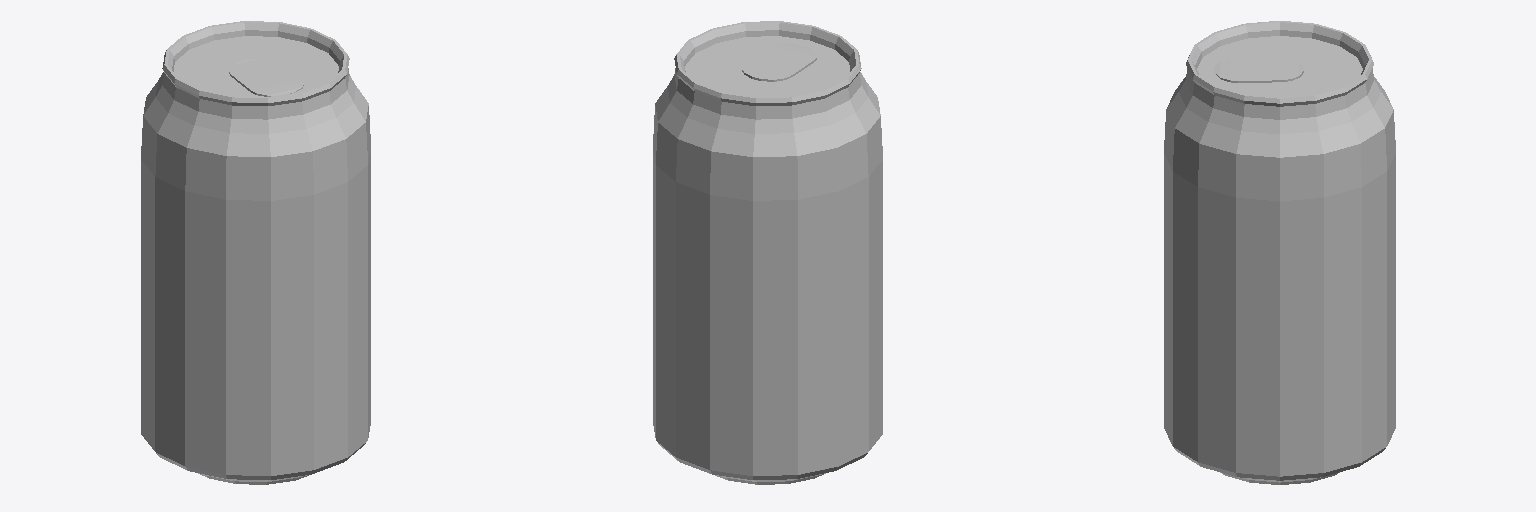
File: MYLES BARQS.obj
3 views of the same model, side by side, from view 1: azimuth 30°, elevation 25°; view 2: azimuth 150°, elevation 25°; view 3: azimuth 270°, elevation 25° (orthographic).
Bounding box in the file's own units: 8.22 × 15.32 × 8.22.